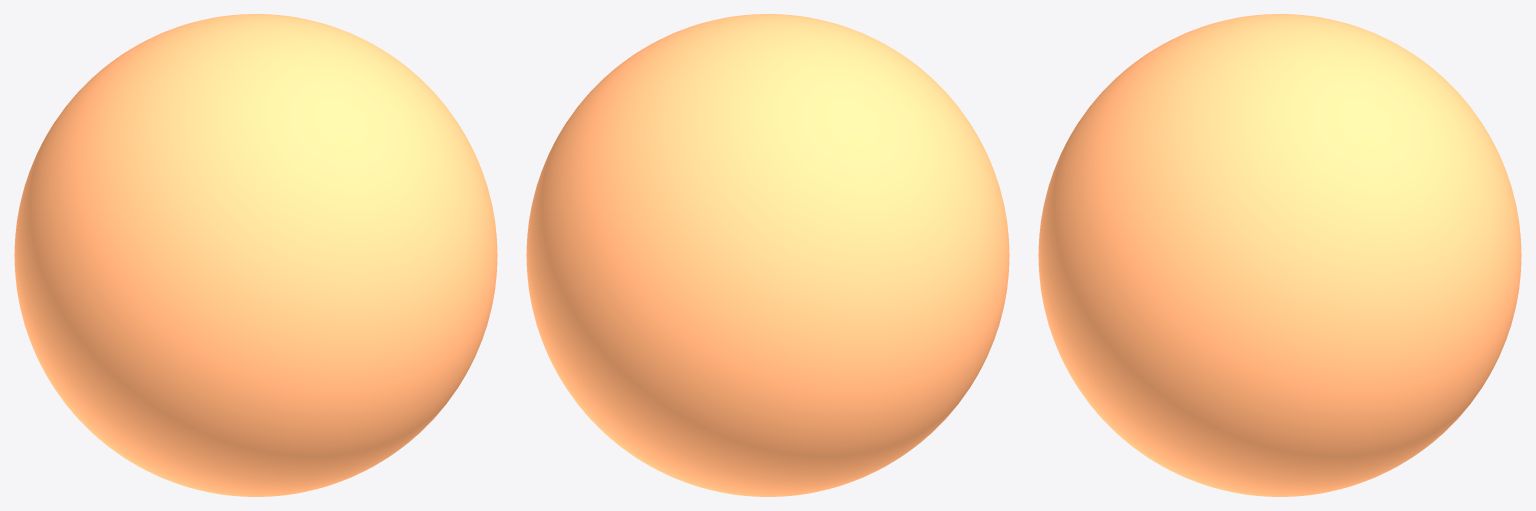
File: proxima-centauri-sphere.glb
3 views of the same model, side by side, from view 1: azimuth 30°, elevation 25°; view 2: azimuth 150°, elevation 25°; view 3: azimuth 270°, elevation 25° (orthographic).
Visible parts, largest first — view 1: Proxima Centauri Diameter; view 2: Proxima Centauri Diameter; view 3: Proxima Centauri Diameter.
Boxes of the visible parts, bbox=[...] form: Proxima Centauri Diameter: bbox=[14, 14, 497, 496]; Proxima Centauri Diameter: bbox=[526, 14, 1009, 496]; Proxima Centauri Diameter: bbox=[1038, 14, 1521, 496].
Bounding box in the file's own units: 214554 × 214554 × 214554.
